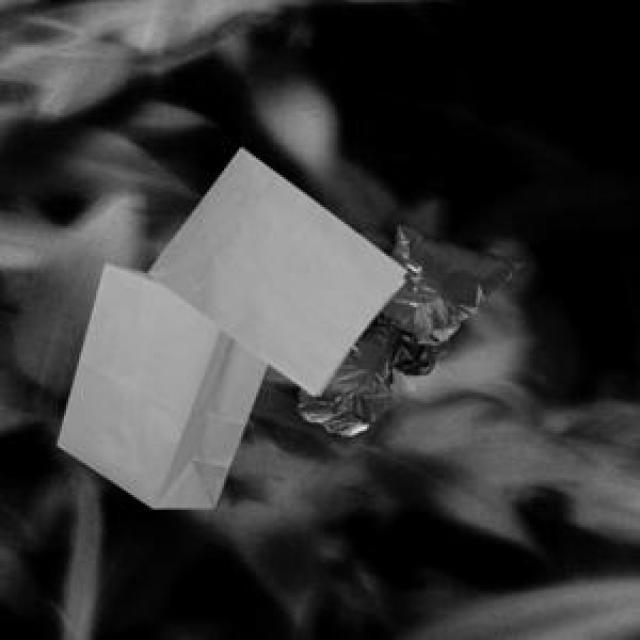miscellaneous trash: (294, 222, 517, 431)
paper: (145, 145, 403, 390), (53, 260, 262, 504)
